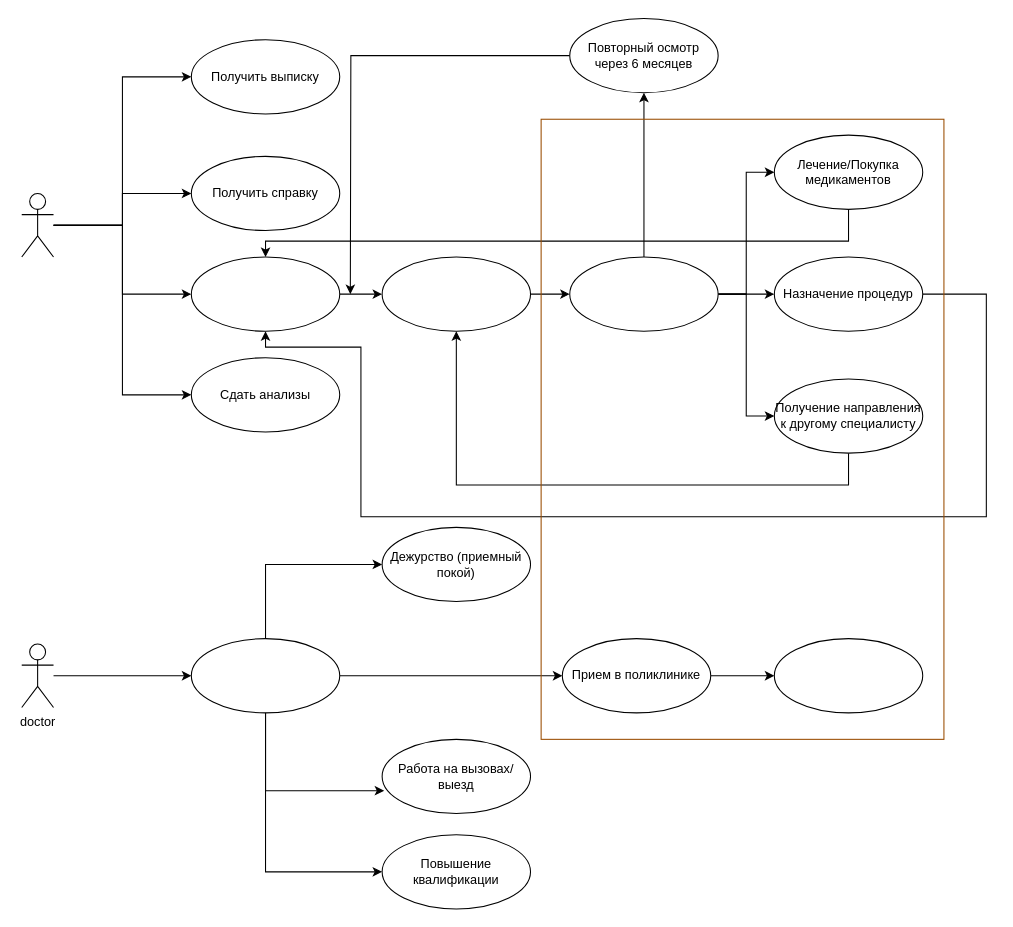
Some shapes in this 1013 by 927 pixel diagram are drawn without their labels. Here are the shapes that lost their labels. From the top down, the centre of each, then its label:
At point (37, 224): "patient".
At point (265, 293): "Запись на прием".
At point (456, 293): "Выбор специалиста".
At point (643, 293): "Осмотр".
At point (265, 675): "Проверка расписания".
At point (848, 675): "Выдача назначений".
